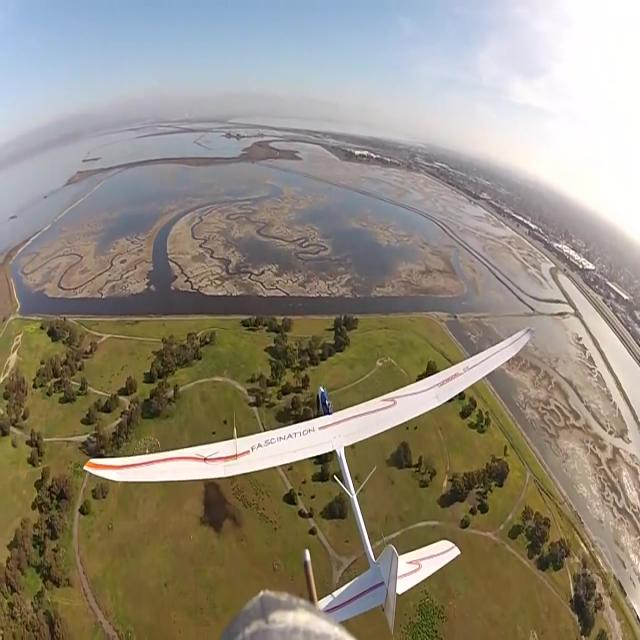iha: (81, 324, 534, 636)
